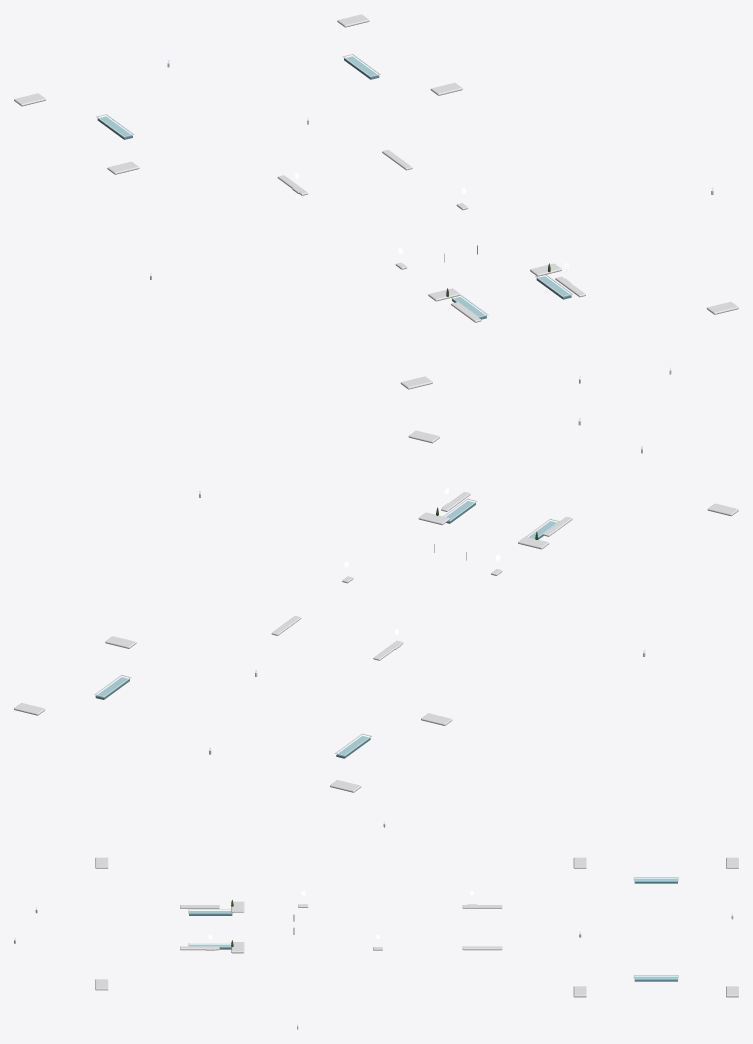
File: avenue.glb
3 renders of one model, top to bottom at view 1: azimuth 30°, elevation 25°; view 2: azimuth 150°, elevation 25°; view 3: azimuth 270°, elevation 25°, orthographic. The views are drawn at different scales.
Size of the model in its own units: 133 by 5.4 by 200.
